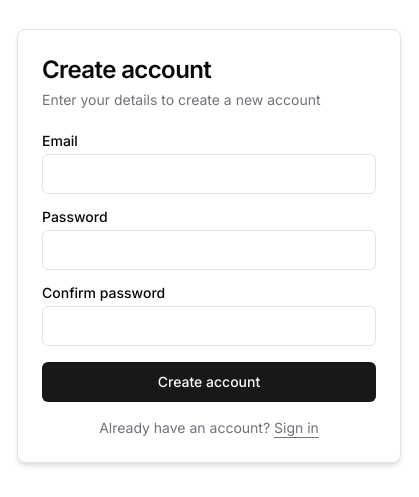
Test: RegisterPage › shows error when passwords do not match
Type "a@b.com" into the field labelled "Email".
click(209, 174); type("a@b.com")  # box [42,154,376,194]
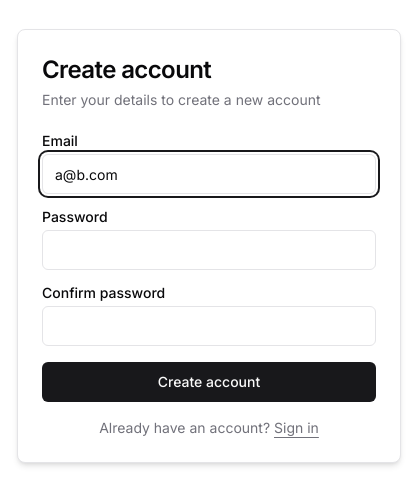
Type "secret123" into the password field labelled "Password".
click(209, 250); type("secret123")  # box [42,230,376,270]
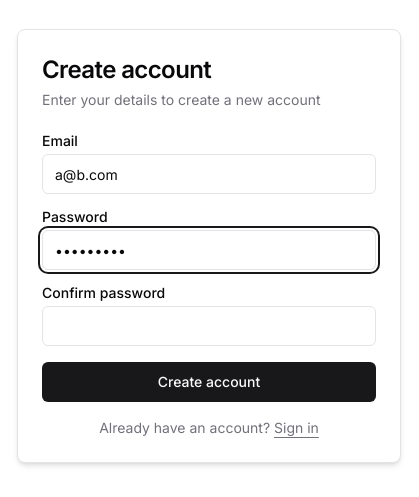
Type "different" into the password field labelled "Confirm password".
click(209, 326); type("different")  # box [42,306,376,346]
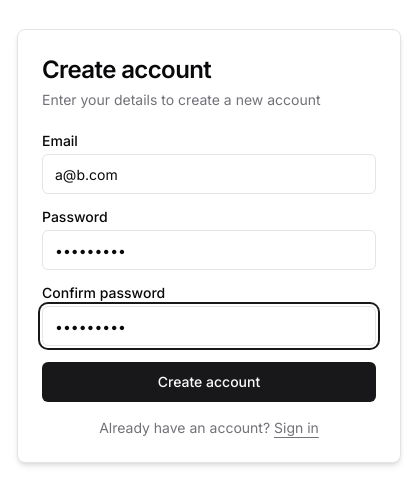
Click the button "Create account".
click(209, 382)  # box [42,362,376,402]
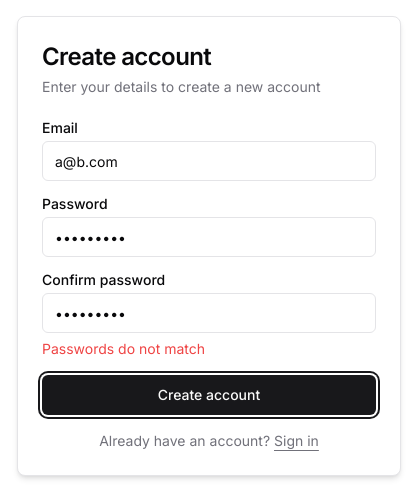
Check: the text "Passwords do not match" is shown, box [42,340,205,357]
